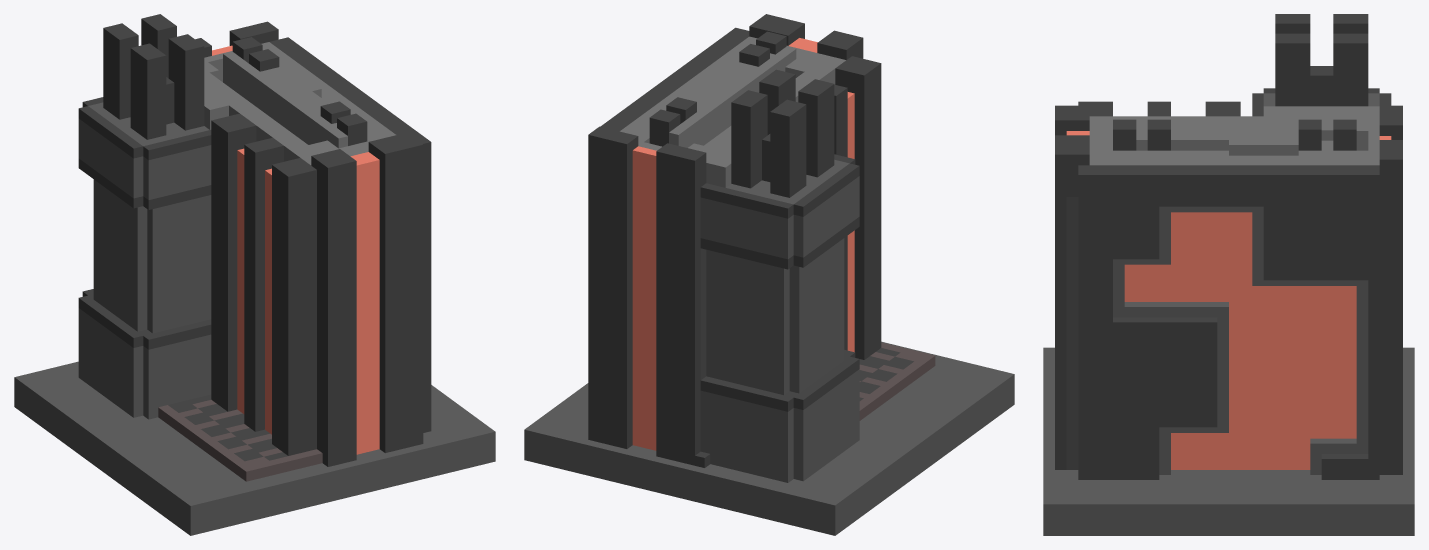
File: _g_factory_2.obj
3 renders of one model, left to right at view 1: azimuth 30°, elevation 25°; view 2: azimuth 150°, elevation 25°; view 3: azimuth 270°, elevation 25°, orthographic. The views are drawn at different scales.
Bounding box in the file's own units: 3.2 × 3.8 × 3.2.
